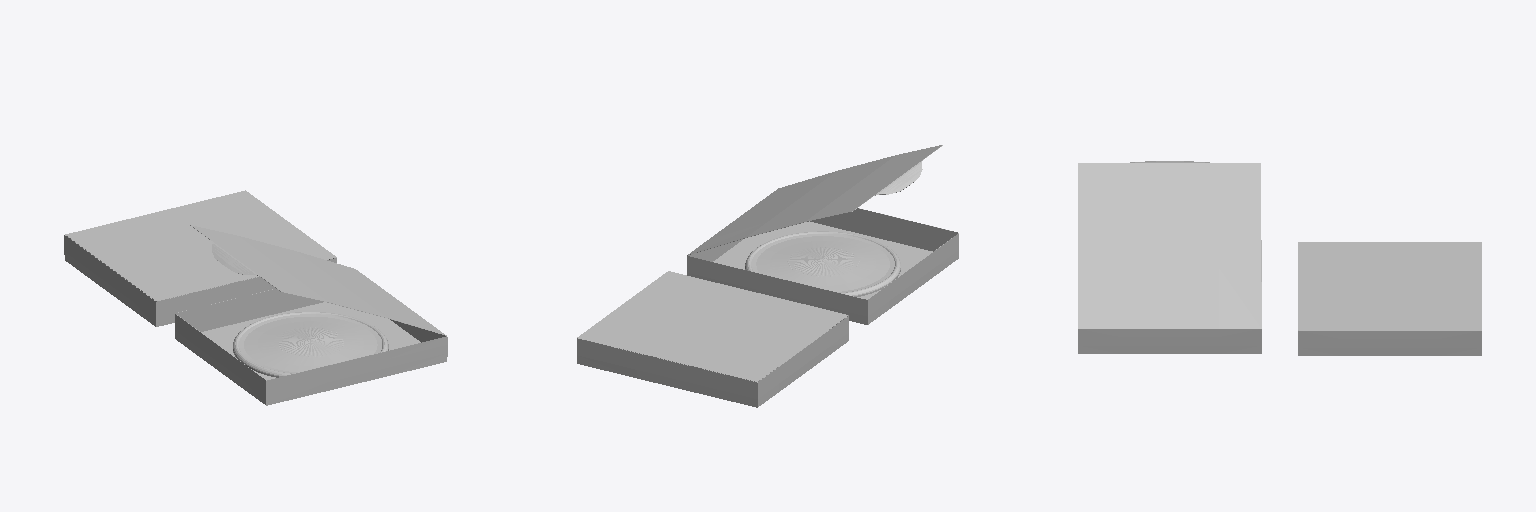
Rendered from Pizza.obj.
The picture shows the model from 3 angles: view 1: azimuth 30°, elevation 25°; view 2: azimuth 150°, elevation 25°; view 3: azimuth 270°, elevation 25°; orthographic projection.
Visible parts, largest first — view 1: Pizza_3d_models__3dislands_blogspot_com_; view 2: Pizza_3d_models__3dislands_blogspot_com_; view 3: Pizza_3d_models__3dislands_blogspot_com_.
Part boxes in pixels (x1,y1,x2,y2): Pizza_3d_models__3dislands_blogspot_com_: (64,190,447,405); Pizza_3d_models__3dislands_blogspot_com_: (577,145,958,407); Pizza_3d_models__3dislands_blogspot_com_: (1078,161,1481,355).
Bounding box in the file's own units: 160 × 94.44 × 309.